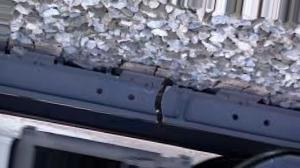tracks_fault: (90, 86, 273, 129), (150, 73, 178, 131)
